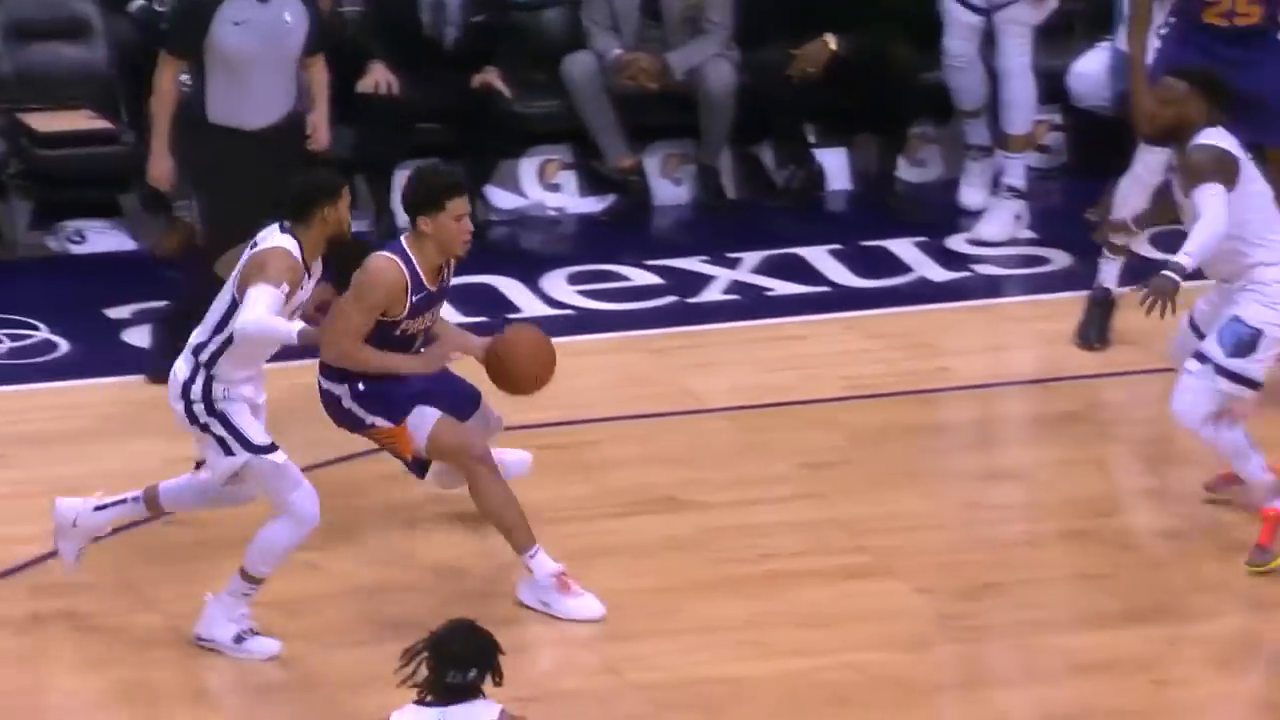ball: (483, 324, 558, 395)
